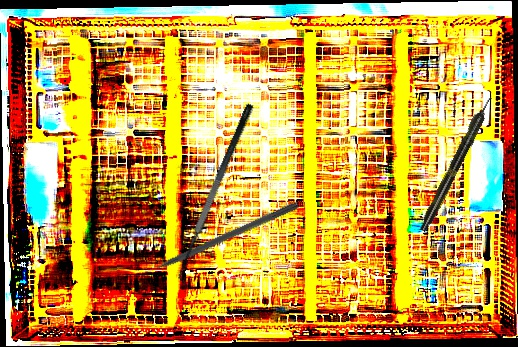Handpiece: (416, 94, 497, 234)
Pusher: (133, 199, 300, 281)
Spatula Surgical: (167, 102, 270, 289)
